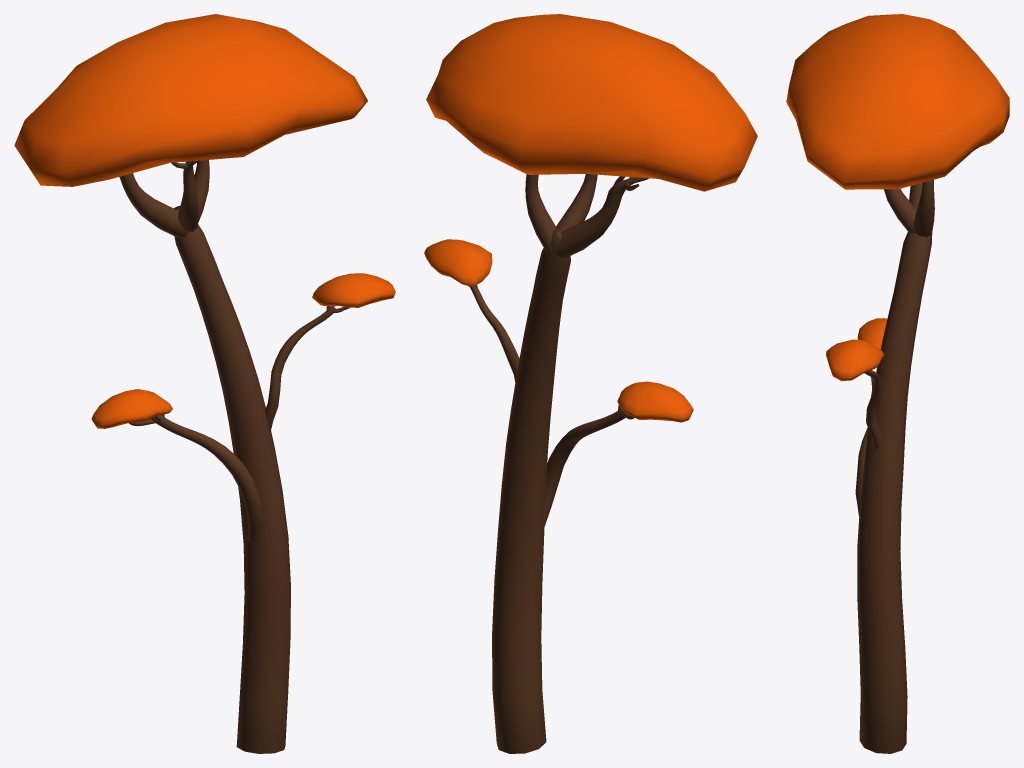
File: SM_treeTall.fbx
3 views of the same model, side by side, from view 1: azimuth 30°, elevation 25°; view 2: azimuth 150°, elevation 25°; view 3: azimuth 270°, elevation 25° (orthographic). The views are drawn at different scales.
Visible parts, largest first — view 1: Tree_T; view 2: Tree_T; view 3: Tree_T.
Part boxes in pixels (x1=…): Tree_T: x1=14, y1=14, x2=395, y2=753; Tree_T: x1=424, y1=14, x2=757, y2=753; Tree_T: x1=786, y1=14, x2=1009, y2=753.
Size of the model in its own units: 1779 by 3652 by 1084.
